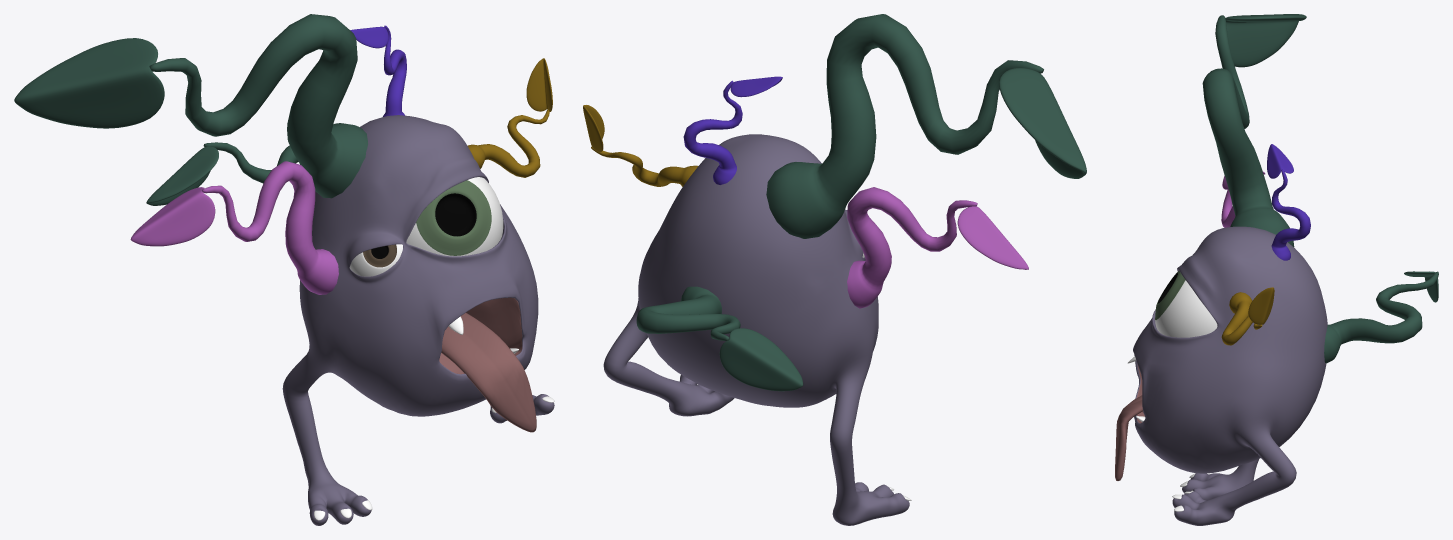
The model's file is Bean_Monster_Instancing4.glb.
3 views of the same model, side by side, from view 1: azimuth 30°, elevation 25°; view 2: azimuth 150°, elevation 25°; view 3: azimuth 270°, elevation 25° (orthographic). The views are drawn at different scales.
Parts seen in each view (by area): view 1: Instance Child on Parent; view 2: Instance Child on Parent; view 3: Instance Child on Parent.
Boxes of the visible parts, x1,y1,x2,y2 form: Instance Child on Parent: (14,14,554,525); Instance Child on Parent: (583,14,1086,525); Instance Child on Parent: (1115,14,1438,525).
Bounding box in the file's own units: 75.27 × 69.8 × 48.87.
